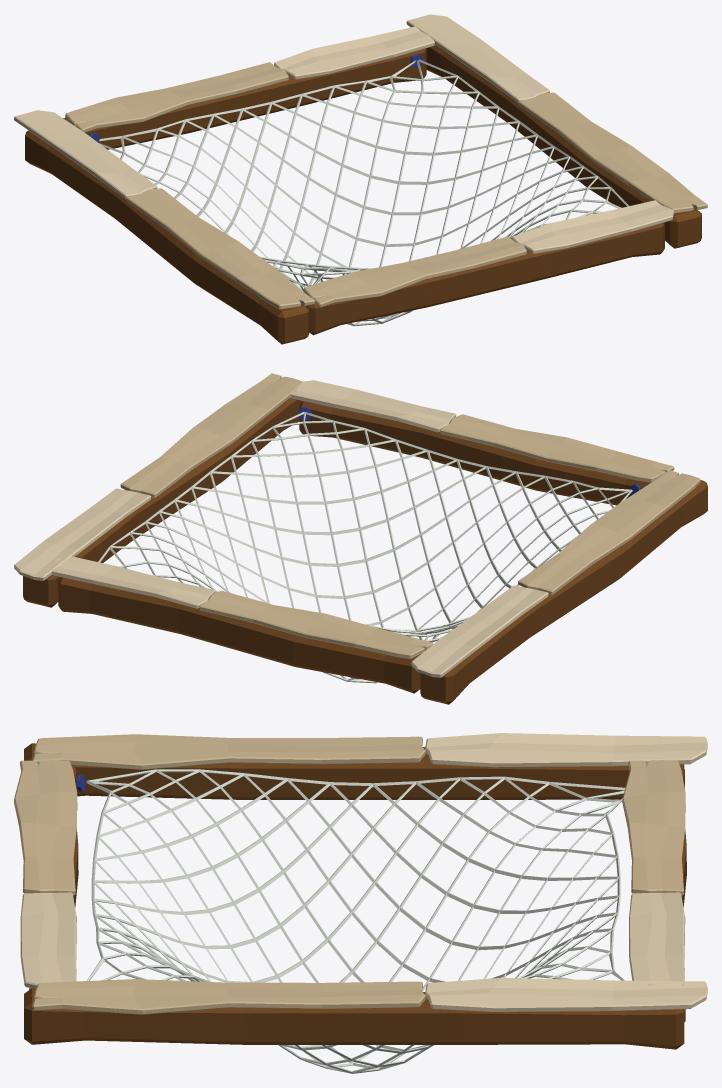
File: Net.fbx
3 renders of one model, top to bottom at view 1: azimuth 30°, elevation 25°; view 2: azimuth 150°, elevation 25°; view 3: azimuth 270°, elevation 25°, orthographic. The views are drawn at different scales.
Parts seen in each view (by area): view 1: Plane, Cube.020, Cube.029, Cube.023, Cube.026, Cube.031, Cube.028, Cube.022, Cube.025, Cube.030, Cube.027, Cube.021 (+1 smaller); view 2: Plane, Cube.023, Cube.020, Cube.029, Cube.026, Cube.031, Cube.028, Cube.025, Cube.022, Cube.030, Cube.027, Cube.021 (+1 smaller); view 3: Plane, Cube.026, Cube.029, Cube.028, Cube.031, Cube.027, Cube.030, Cube.025, Cube.022, Cube.021, Cube.024.
Boxes of the visible parts, bbox=[...] form: Plane: bbox=[99, 59, 628, 326]; Cube.020: bbox=[306, 223, 664, 335]; Cube.029: bbox=[25, 130, 309, 344]; Cube.023: bbox=[63, 48, 426, 149]; Cube.026: bbox=[425, 44, 701, 248]; Cube.031: bbox=[126, 188, 314, 309]; Cube.028: bbox=[518, 92, 707, 213]; Cube.022: bbox=[303, 236, 526, 307]; Cube.025: bbox=[65, 62, 288, 132]; Cube.030: bbox=[14, 110, 157, 198]; Cube.027: bbox=[406, 14, 549, 103]; Cube.021: bbox=[512, 200, 673, 253]; Plane: bbox=[98, 412, 632, 683]; Cube.023: bbox=[58, 577, 425, 693]; Cube.020: bbox=[299, 401, 650, 505]; Cube.029: bbox=[420, 480, 707, 704]; Cube.026: bbox=[23, 398, 302, 607]; Cube.031: bbox=[518, 470, 700, 594]; Cube.028: bbox=[120, 373, 302, 498]; Cube.025: bbox=[199, 590, 433, 659]; Cube.022: bbox=[440, 414, 674, 482]; Cube.030: bbox=[411, 585, 548, 677]; Cube.027: bbox=[14, 488, 151, 580]; Cube.021: bbox=[290, 380, 456, 432]; Plane: bbox=[86, 769, 625, 1073]; Cube.026: bbox=[24, 988, 684, 1049]; Cube.029: bbox=[24, 743, 684, 799]; Cube.028: bbox=[32, 979, 425, 1014]; Cube.031: bbox=[32, 734, 425, 769]; Cube.027: bbox=[425, 978, 707, 1011]; Cube.030: bbox=[425, 733, 707, 767]; Cube.025: bbox=[622, 760, 685, 895]; Cube.022: bbox=[14, 760, 77, 895]; Cube.021: bbox=[20, 892, 76, 988]; Cube.024: bbox=[629, 892, 685, 985].
Bounding box in the file's own units: 2071 × 718 × 2233.
